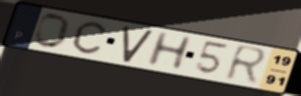5: (192, 38, 232, 77)
C: (71, 21, 108, 56)
H: (143, 30, 196, 71)
O: (33, 13, 74, 50)
R: (222, 43, 270, 87)
V: (122, 25, 156, 64)
